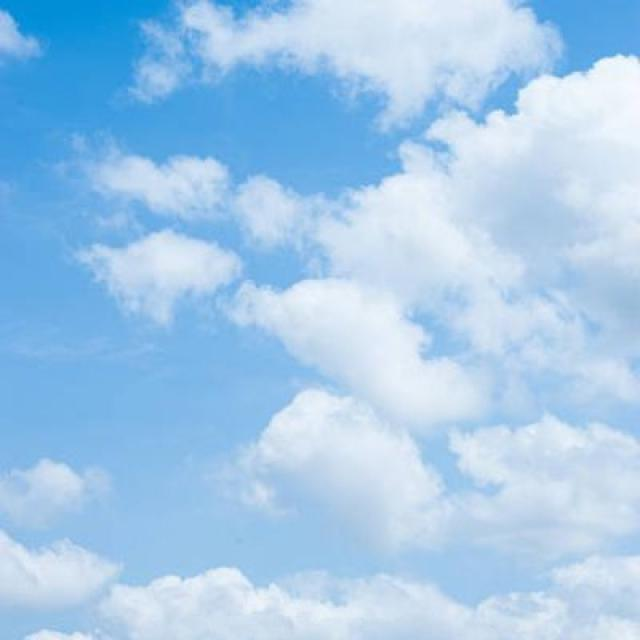Cu: (1, 26, 640, 562)
